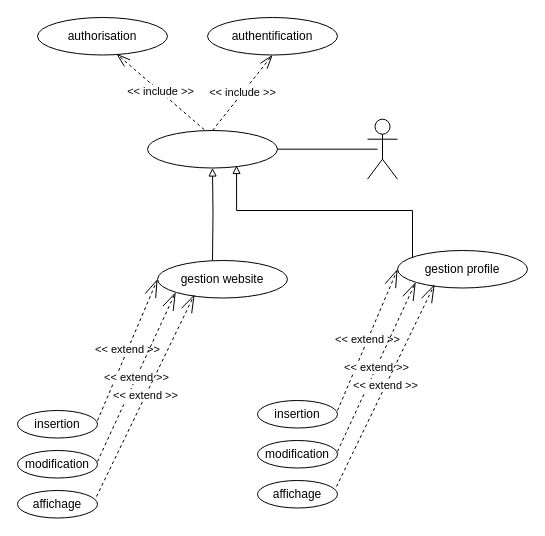
The diagram is 545 pixels wide and 536 high, and some of its shapes have lost their labels. The centre of each missing label's shape, as x and y in pixels:
"gestion" belongs at point (212, 149).
"Role admin magazin" belongs at point (382, 148).
